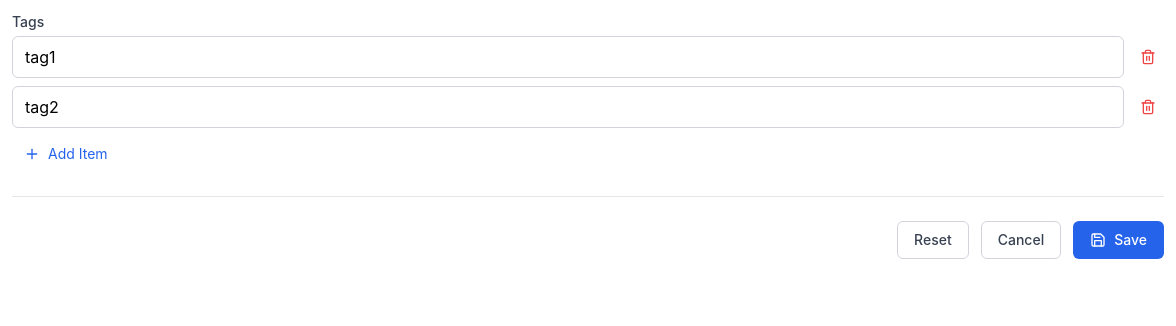
Test case: SimpleForm › handles array field correctly
This screenshot has width=1176, height=326.
Check: the 1st field showing "tag1" is shown, box [12,36,1124,78]
Check: the 2nd field showing "tag2" is shown, box [12,86,1124,128]
Step 1. Click the button "Add Item" → [66, 154], box [12,136,120,172]
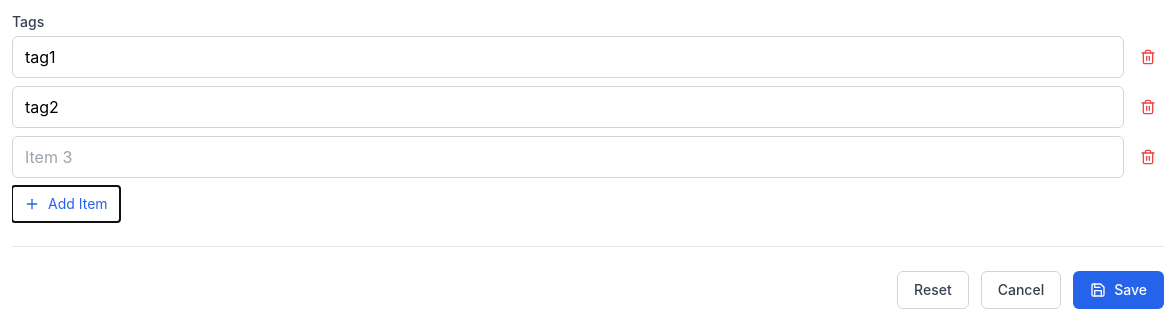
Check: the field with placeholder "Item 3" is shown, box [12,136,1124,178]
